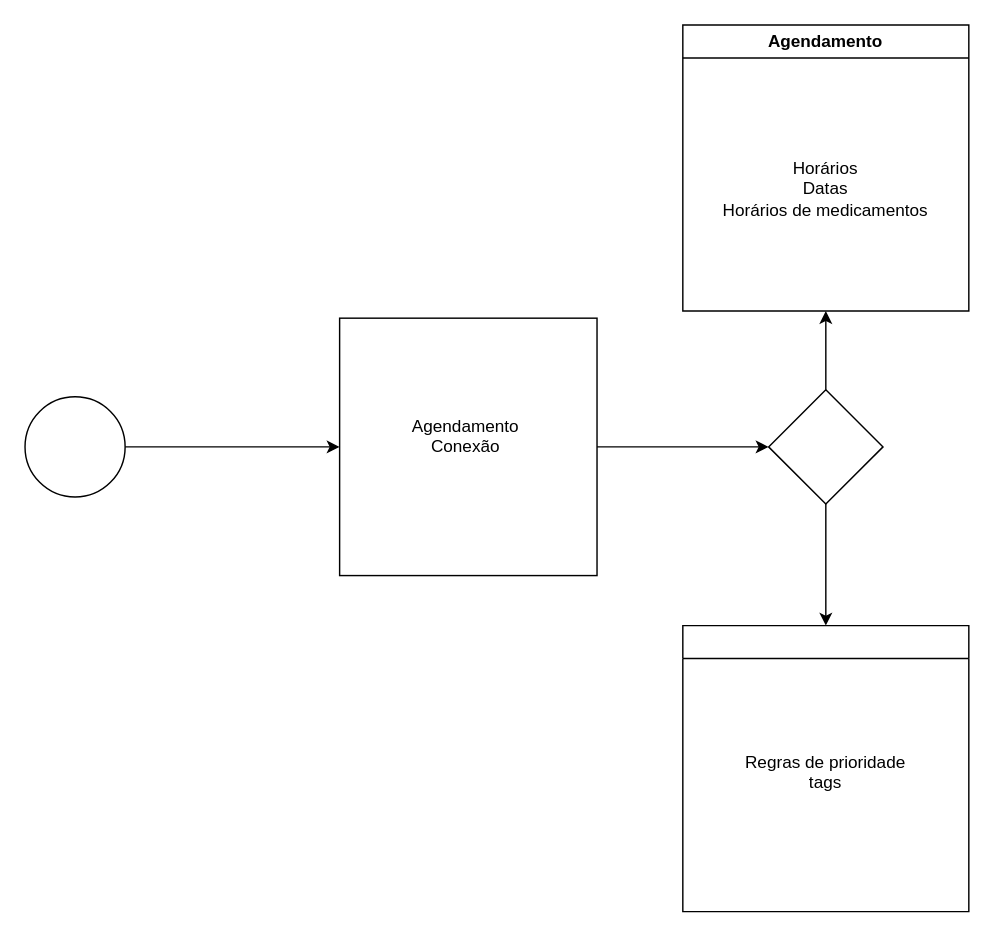
Some shapes in this 994 by 937 pixel diagram are drawn without their labels. Each missing label, with the box of its shape:
INicio: (24, 395, 125, 497)
não agendamento: (681, 624, 969, 912)
